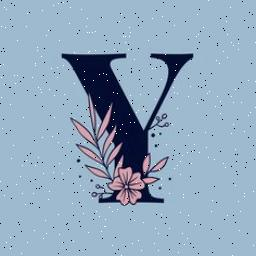y: (62, 38, 196, 212)
